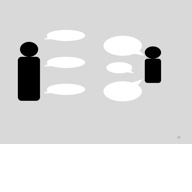left_speech: (41, 25, 88, 46), (42, 79, 86, 99), (42, 52, 88, 71)
right_speech: (100, 30, 145, 59), (98, 77, 143, 102), (103, 59, 138, 76)
